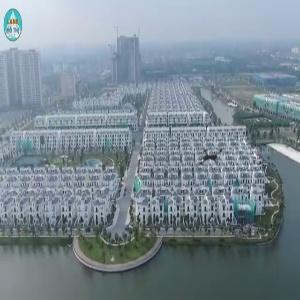drone: (186, 132, 235, 181)
